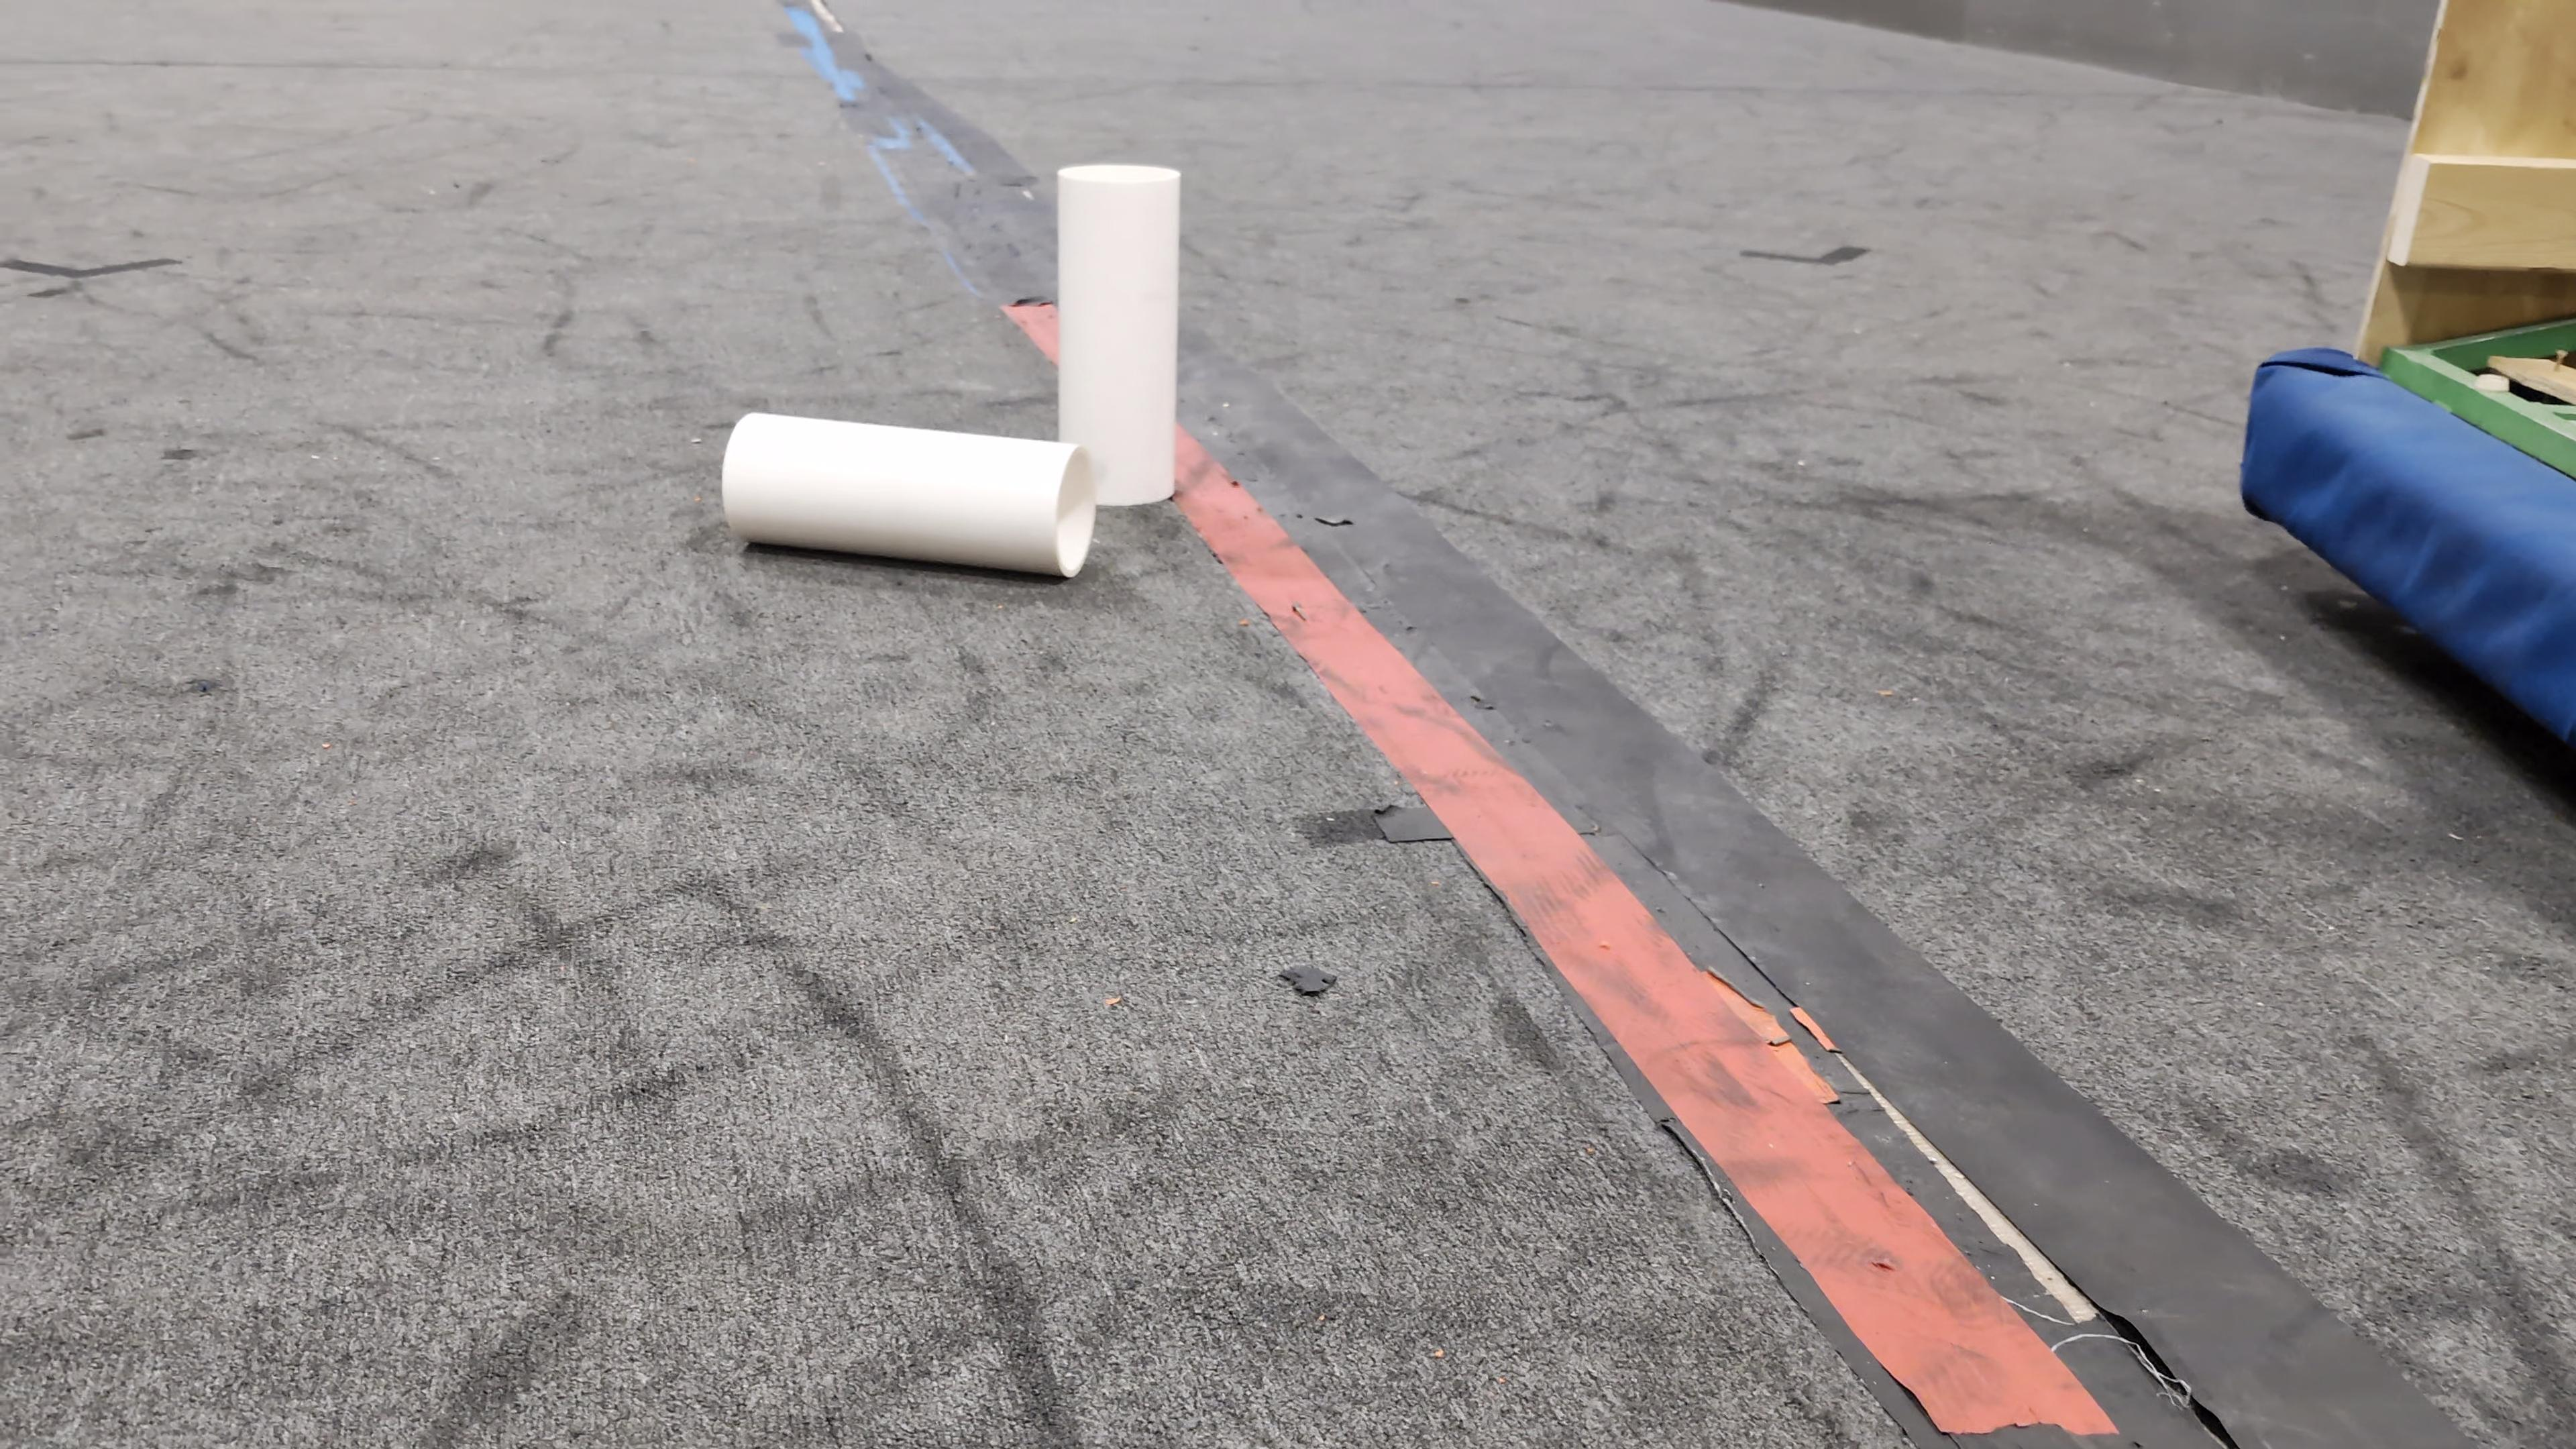coral: (718, 409, 1093, 579), (1049, 156, 1191, 511)
